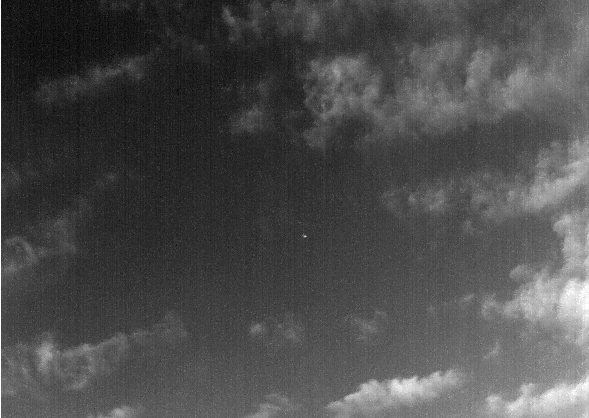dim target: (302, 233, 308, 239)
